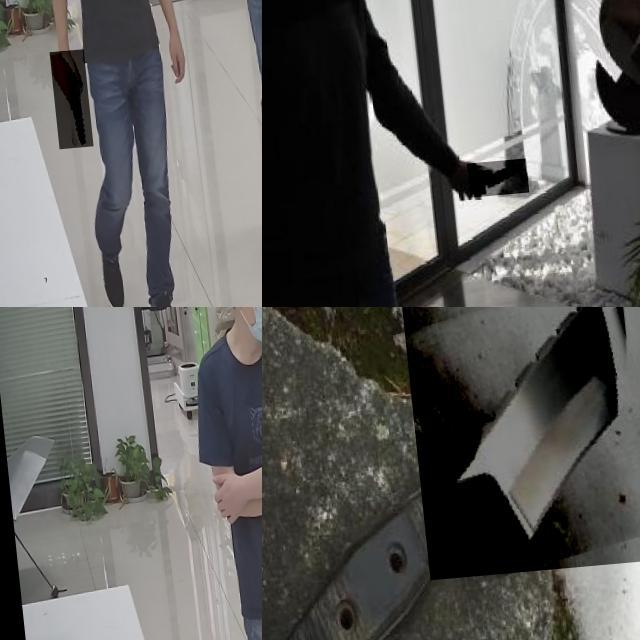-: (399, 307, 640, 585), (458, 166, 520, 204)
gun-knife-thesis - v11 Yolov5 augmented: (44, 52, 86, 152)
